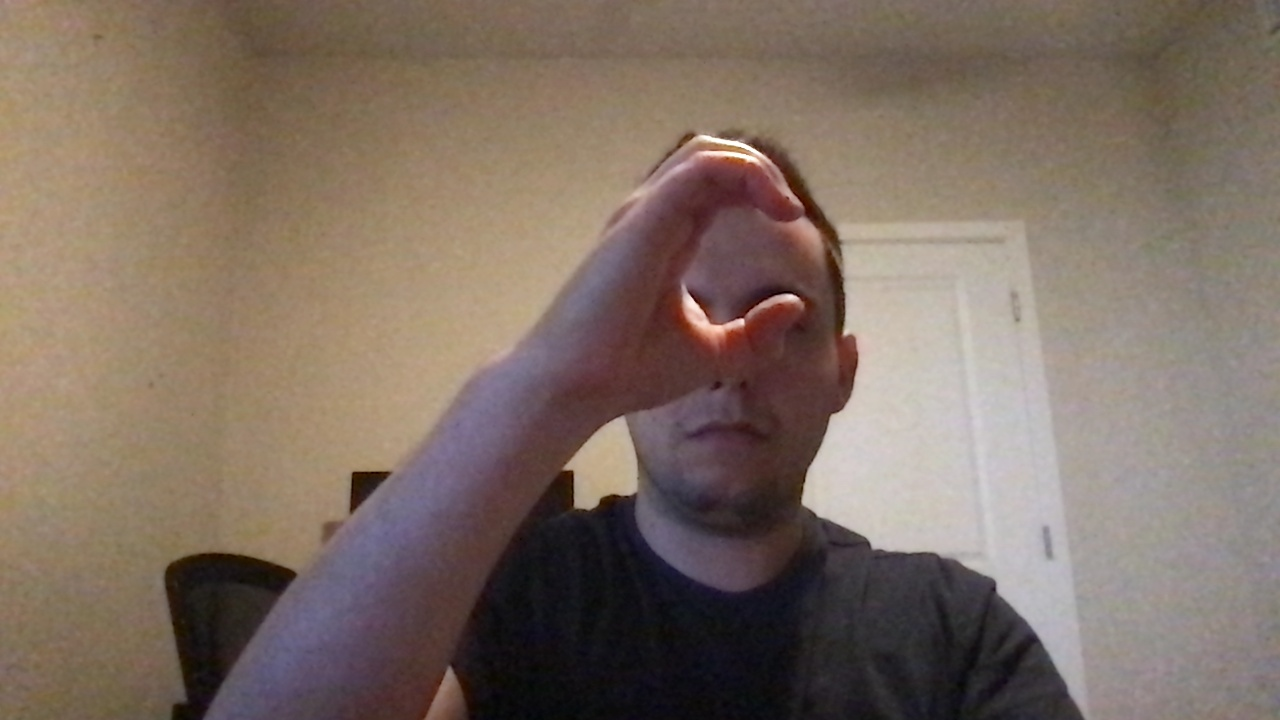c: (556, 128, 827, 396)
